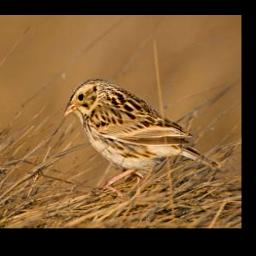Sparrow: (60, 78, 220, 201)
